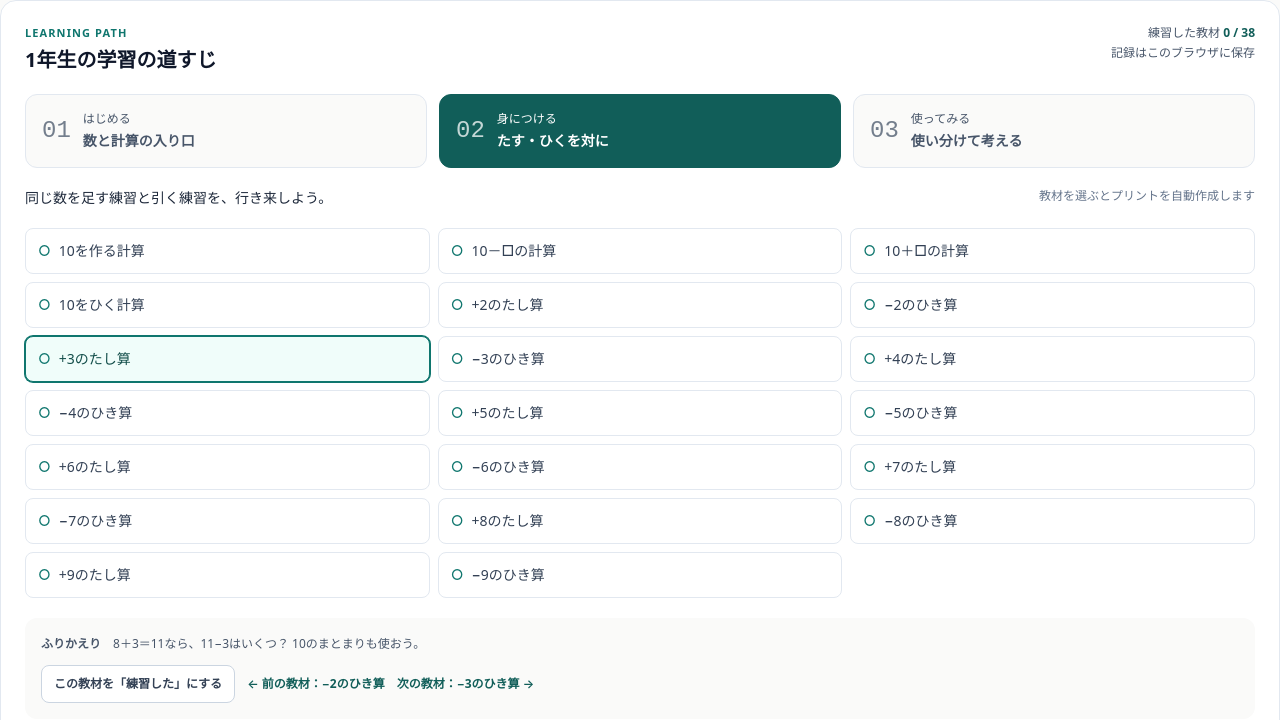
学習の道すじ › 別の段階を閲覧中に、前の教材を誤って記録させない
Click the button "01 はじめる 数と計算の入り口" at (107, 118), box [25,94,427,168]
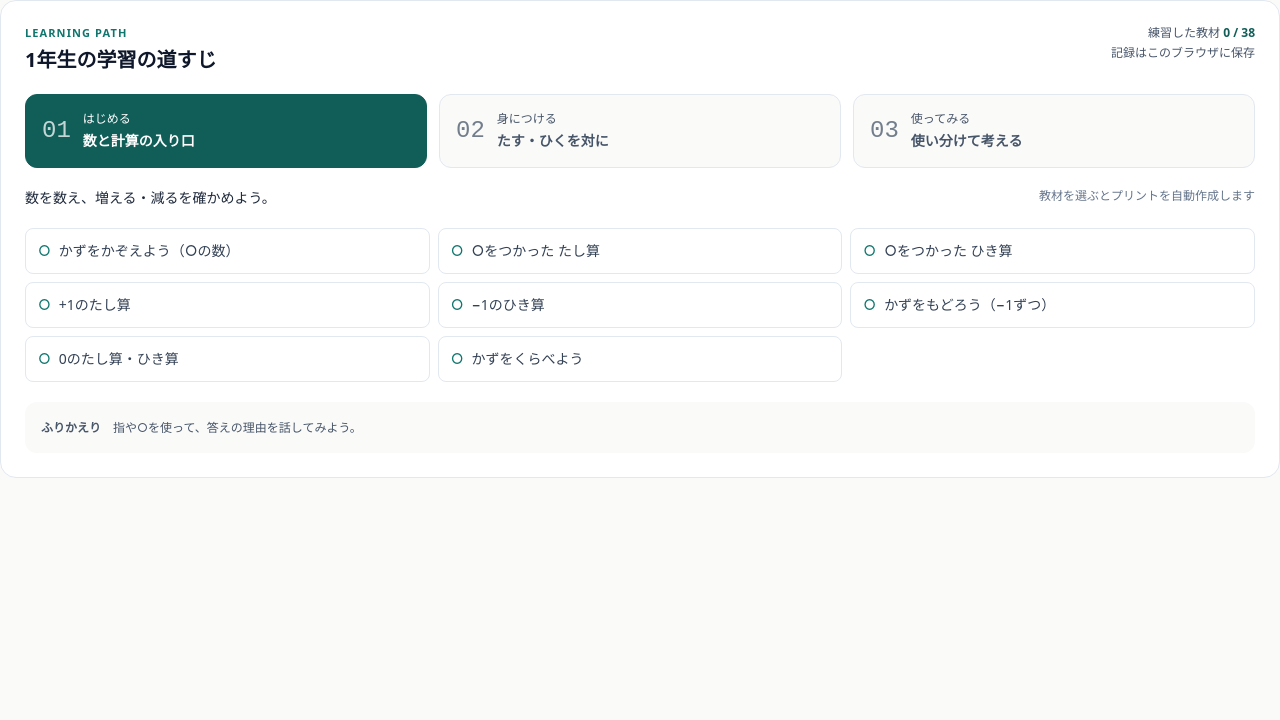
Expected: the button "この教材を「練習した」にする" is gone
